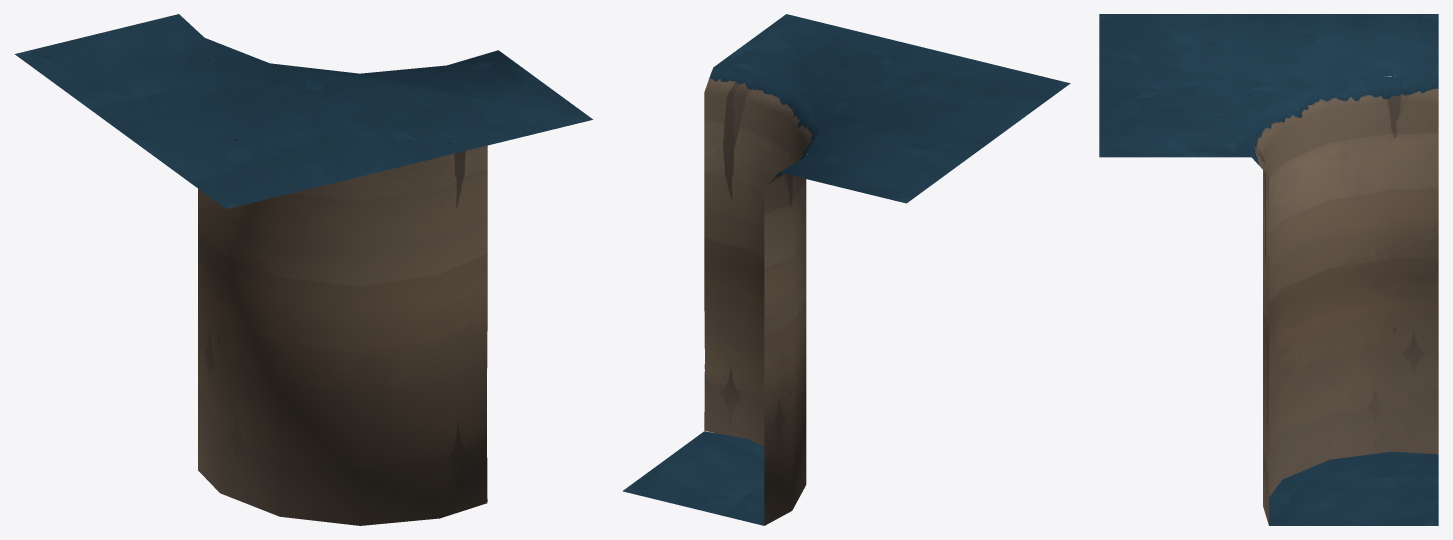
File: hillinterrain.fbx
The picture shows the model from 3 angles, left to right: view 1: azimuth 30°, elevation 25°; view 2: azimuth 150°, elevation 25°; view 3: azimuth 270°, elevation 25°; orthographic projection. The views are drawn at different scales.
Parts seen in each view (by area): view 1: Cube.001; view 2: Cube.001; view 3: Cube.001.
Boxes of the visible parts, bbox=[...] form: Cube.001: bbox=[14, 14, 592, 525]; Cube.001: bbox=[622, 14, 1070, 525]; Cube.001: bbox=[1099, 14, 1438, 525].
Size of the model in its own units: 1 by 1.2 by 1.
